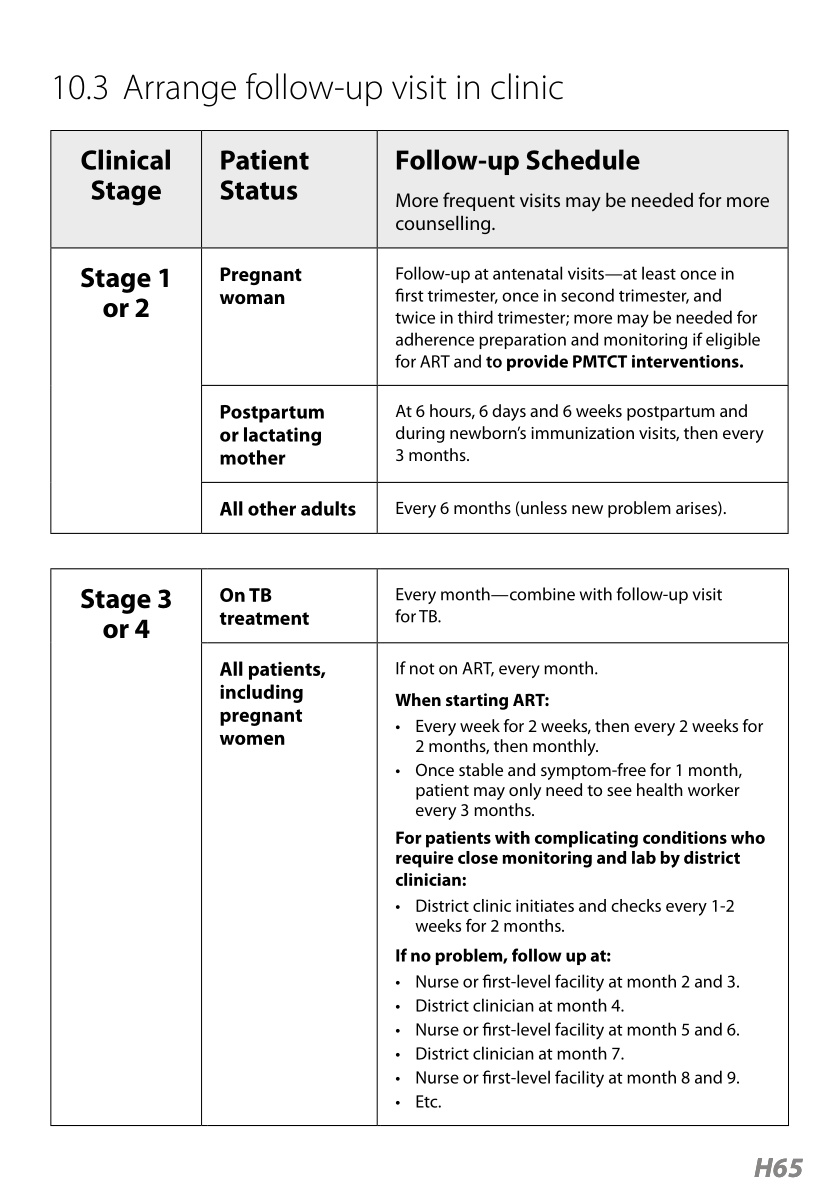merged_cells: (50, 568, 789, 1126), (50, 130, 789, 534)
